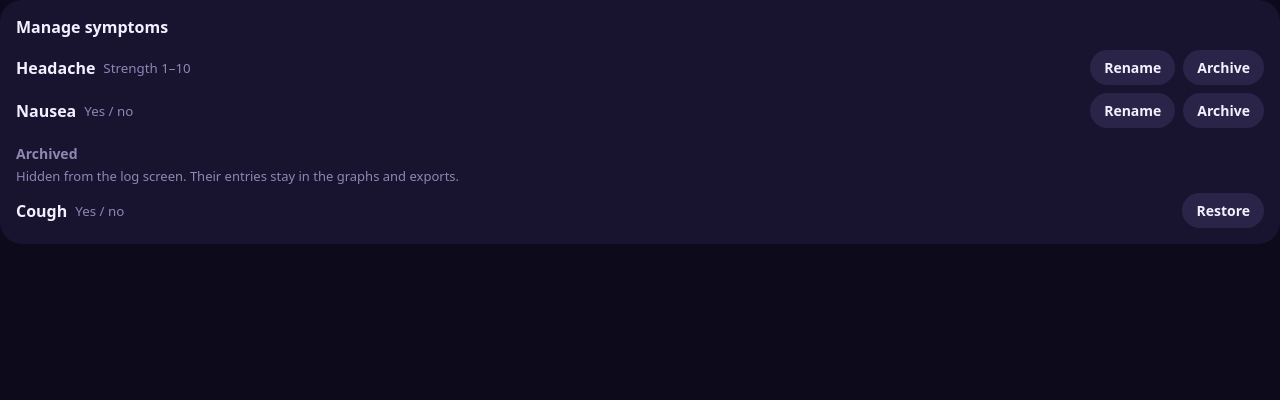
Test: ManageSymptomsCard › refuses a blank name
This screenshot has width=1280, height=400.
Check: the text "Headache" is shown, box [16,56,95,78]
Click the button with aria-label "Rename Headache": (1133, 68) [1090,50,1175,85]
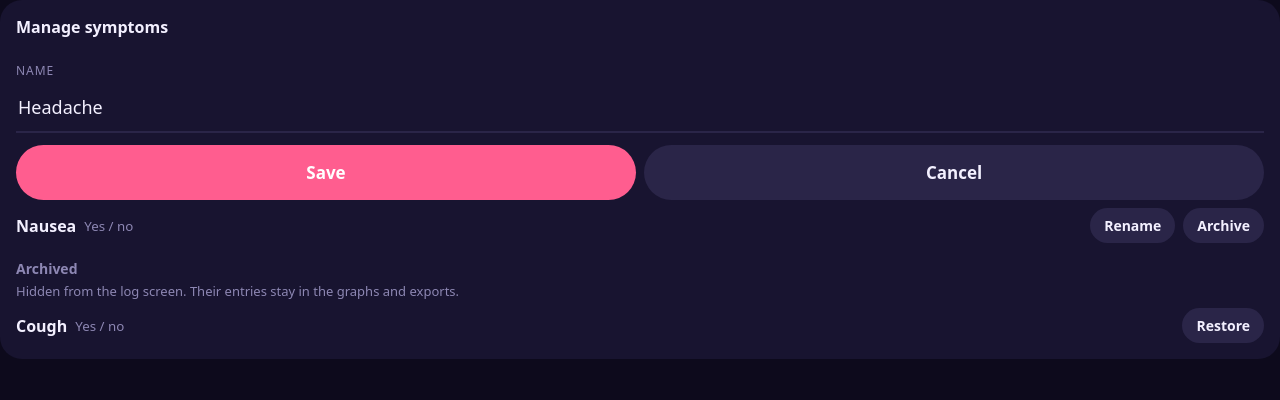
Clear the field labelled "Name": (640, 108) [16,83,1264,133]
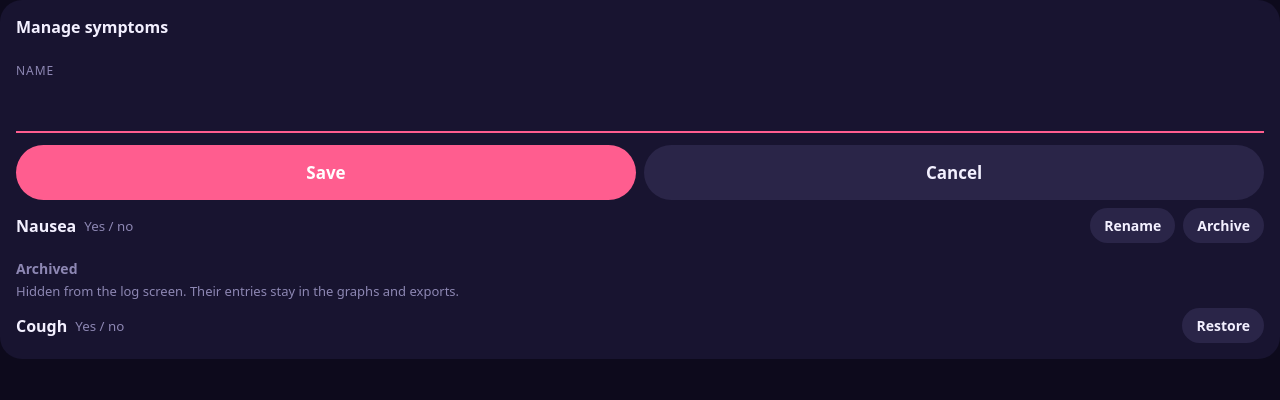
Click the button "Save": (326, 172) [16,145,636,200]
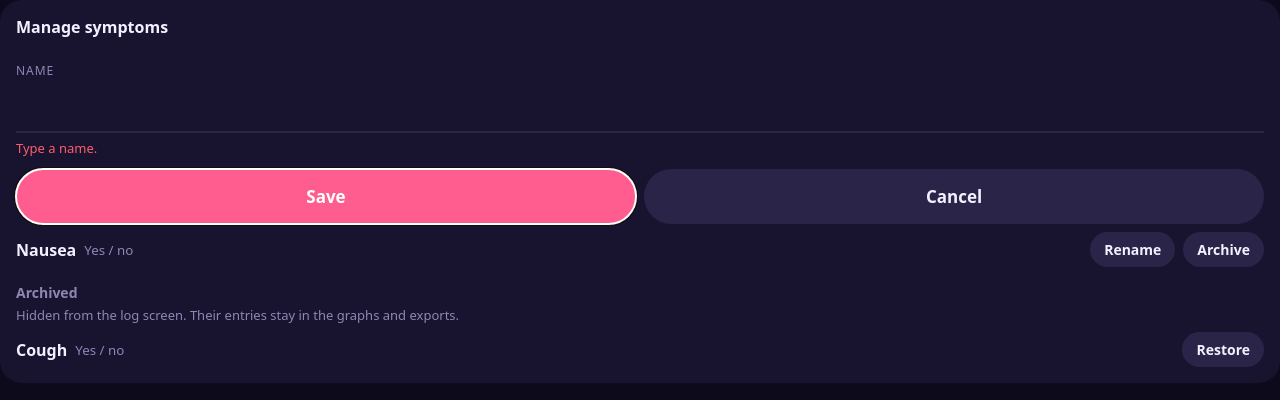
Check: the message reads "Type a name.", box [16,139,97,157]
